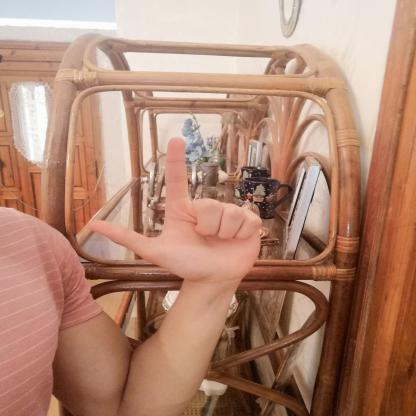LAAM: (71, 125, 272, 296)
